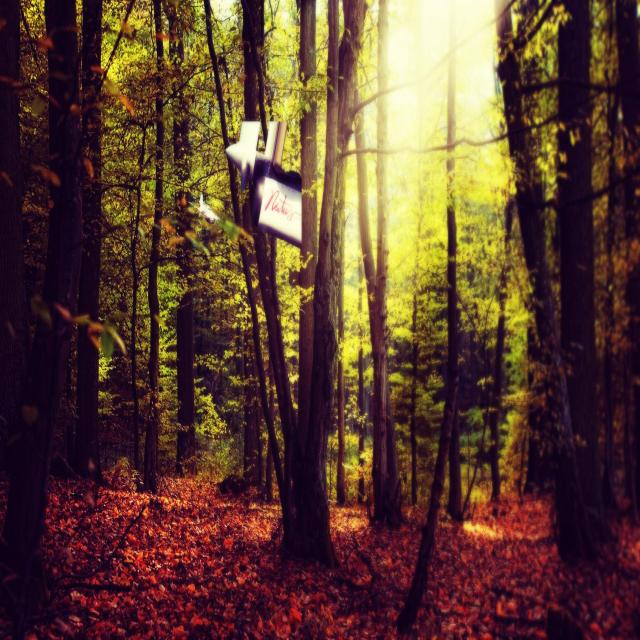airplane: (224, 119, 302, 242), (188, 185, 220, 227)
